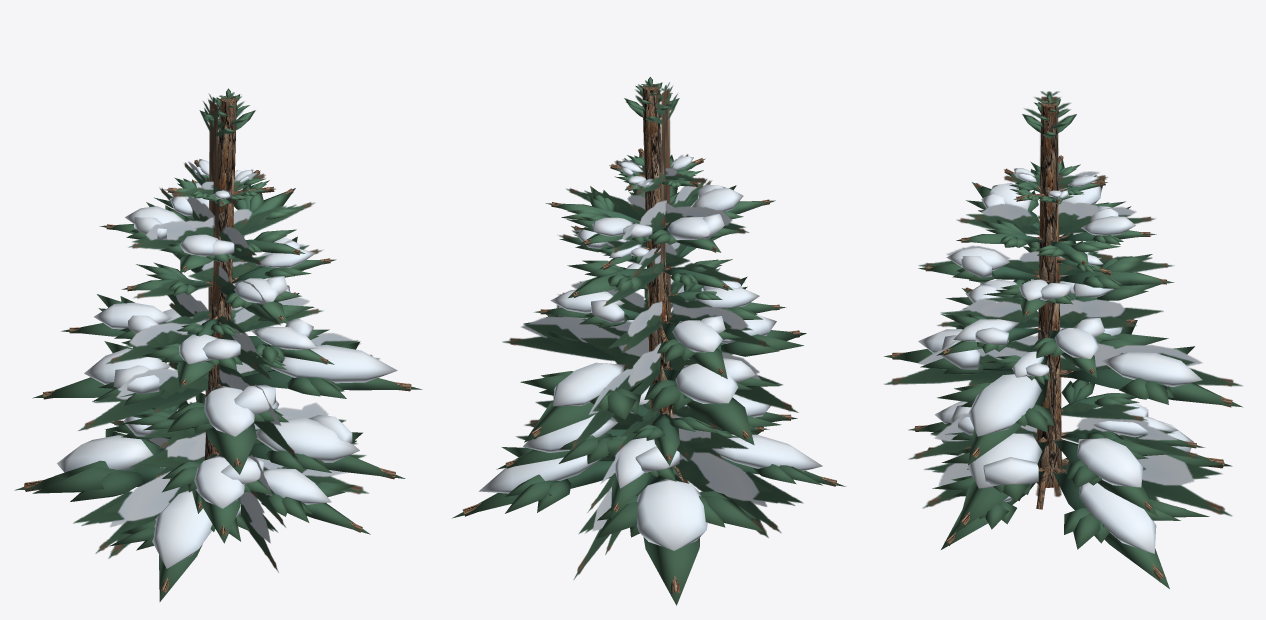
Rendered from tree19.glb.
3 views of the same model, side by side, from view 1: azimuth 30°, elevation 25°; view 2: azimuth 150°, elevation 25°; view 3: azimuth 270°, elevation 25° (orthographic). The views are drawn at different scales.
Parts seen in each view (by area): view 1: Alpine19_1, Alpine19_2, Empty.004, Alpine19_0; view 2: Alpine19_1, Empty.004, Alpine19_2, Alpine19_0; view 3: Alpine19_1, Alpine19_2, Empty.004, Alpine19_0.
Boxes of the visible parts, x1=… form: Alpine19_1: x1=14, y1=88, x2=422, y2=601; Alpine19_2: x1=57, y1=159, x2=397, y2=568; Empty.004: x1=73, y1=92, x2=379, y2=572; Alpine19_0: x1=23, y1=96, x2=411, y2=592; Alpine19_1: x1=452, y1=77, x2=846, y2=605; Empty.004: x1=502, y1=80, x2=803, y2=579; Alpine19_2: x1=478, y1=156, x2=822, y2=550; Alpine19_0: x1=462, y1=84, x2=836, y2=593; Alpine19_1: x1=884, y1=94, x2=1242, y2=588; Alpine19_2: x1=918, y1=168, x2=1202, y2=553; Empty.004: x1=884, y1=91, x2=1242, y2=516; Alpine19_0: x1=891, y1=100, x2=1232, y2=580.
Bounding box in the file's own units: 3.06 × 4.1 × 3.18.
Materials: 4 (2 with a texture image).
